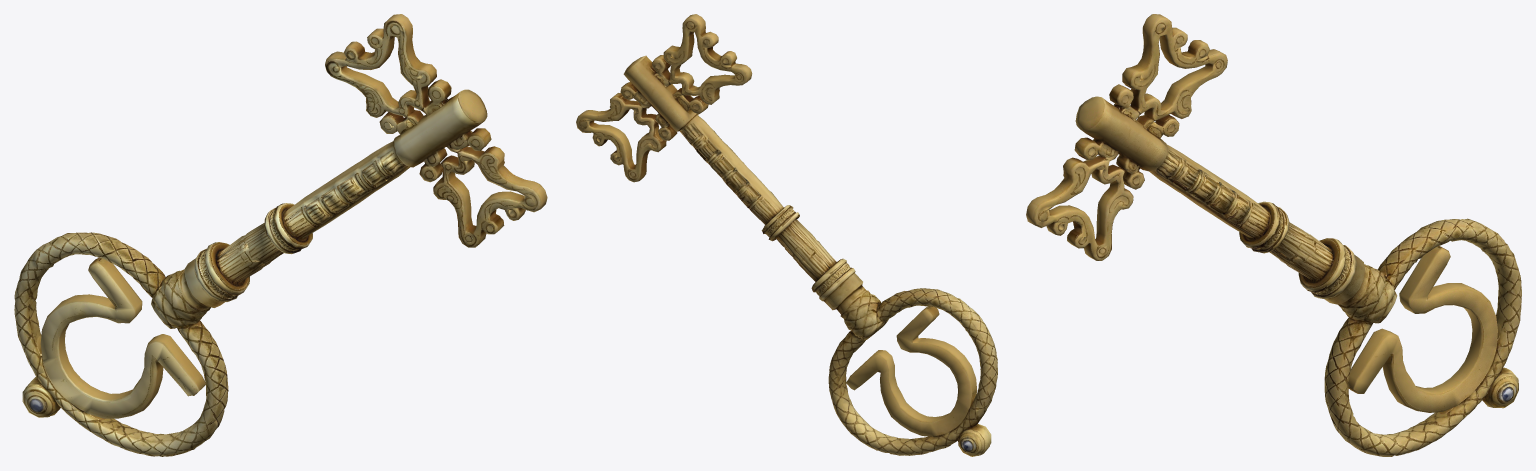
The model's file is key.glb.
3 views of the same model, side by side, from view 1: azimuth 30°, elevation 25°; view 2: azimuth 210°, elevation 25°; view 3: azimuth 270°, elevation 25° (orthographic). The views are drawn at different scales.
Visible parts, largest first — view 1: tripo_node_72539e59-c95c-4ace-bddc-17d5d4d7295b; view 2: tripo_node_72539e59-c95c-4ace-bddc-17d5d4d7295b; view 3: tripo_node_72539e59-c95c-4ace-bddc-17d5d4d7295b.
Part boxes in pixels (x1,y1,x2,y2): tripo_node_72539e59-c95c-4ace-bddc-17d5d4d7295b: (14,14,547,456); tripo_node_72539e59-c95c-4ace-bddc-17d5d4d7295b: (576,14,997,456); tripo_node_72539e59-c95c-4ace-bddc-17d5d4d7295b: (1026,14,1521,456).
Bounding box in the file's own units: 0.1384 × 0.22 × 0.1976.
Materials: 1 (1 with a texture image).
